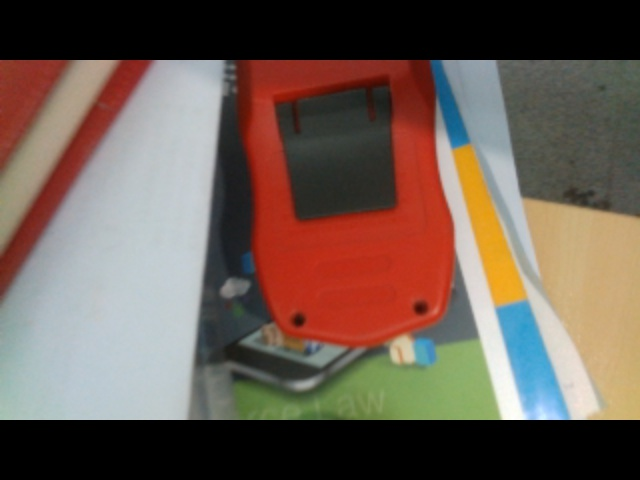Multimeter: (239, 59, 455, 349)
Screw holes: (290, 312, 308, 330), (414, 299, 430, 318)
